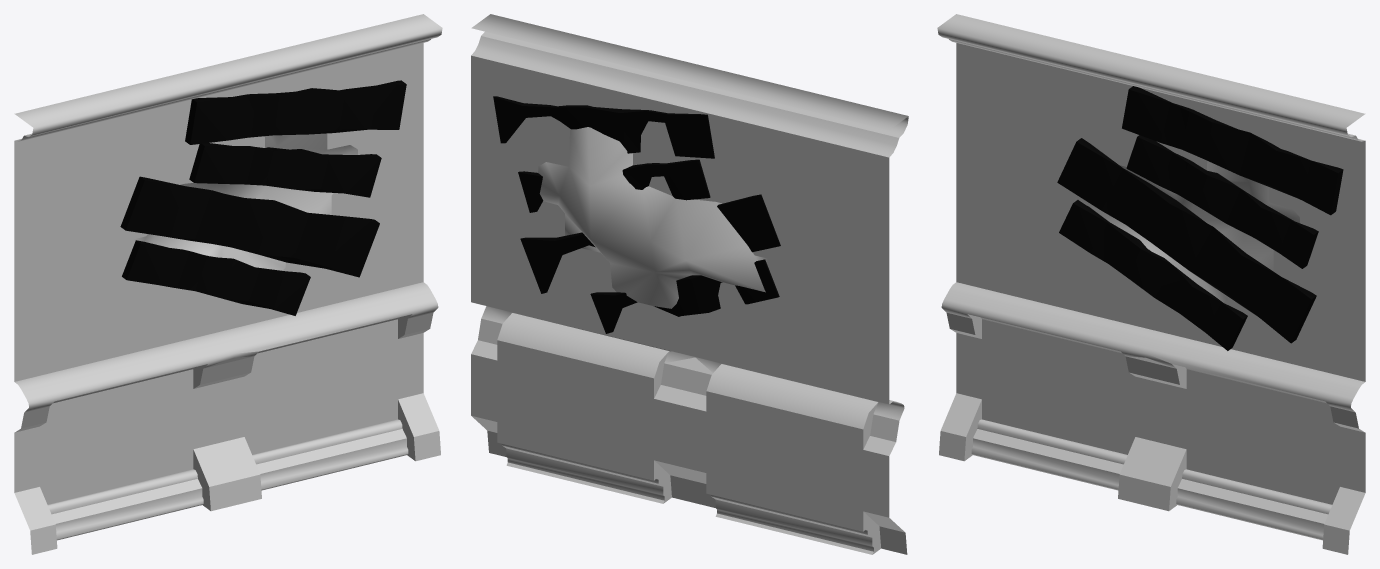
File: default_broken02_noboards.dae
3 renders of one model, left to right at view 1: azimuth 30°, elevation 25°; view 2: azimuth 150°, elevation 25°; view 3: azimuth 330°, elevation 25°, orthographic. The views are drawn at different scales.
Visible parts, largest first — view 1: polySurface120, polySurface121, polySurface116; view 2: polySurface120, polySurface116, polySurface121; view 3: polySurface120, polySurface121, polySurface116.
Part boxes in pixels (left/top/right/bottom): polySurface120: left=14, top=14, right=442, bottom=554; polySurface121: left=120, top=80, right=406, bottom=315; polySurface116: left=125, top=133, right=357, bottom=270; polySurface120: left=471, top=14, right=908, bottom=554; polySurface116: left=538, top=127, right=776, bottom=308; polySurface121: left=493, top=96, right=780, bottom=333; polySurface120: left=937, top=14, right=1365, bottom=554; polySurface121: left=1057, top=86, right=1343, bottom=350; polySurface116: left=1067, top=161, right=1299, bottom=302.
Size of what is drawn, in the model's own units: 400 by 400 by 67.59.
